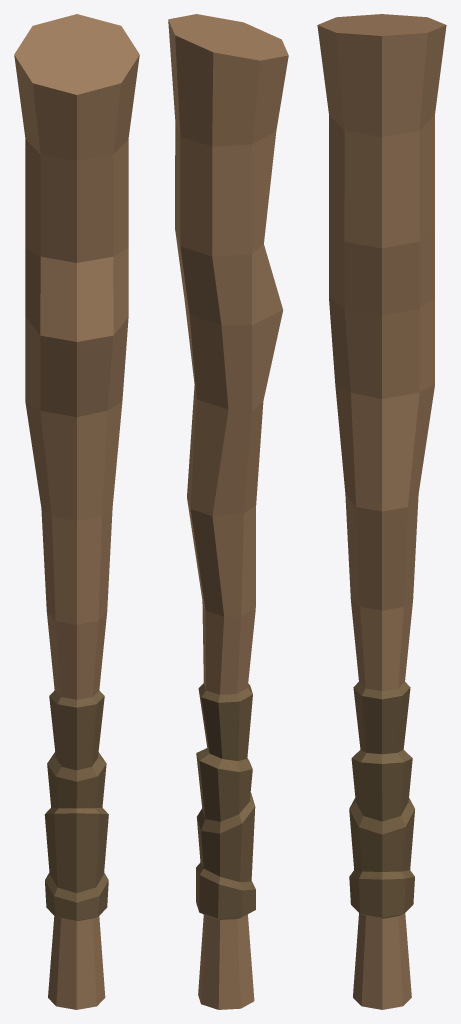
File: SM_pwe_medieval_club_06.fbx
3 renders of one model, left to right at view 1: azimuth 90°, elevation 25°; view 2: azimuth 210°, elevation 25°; view 3: azimuth 270°, elevation 25°, orthographic. The views are drawn at different scales.
Parts seen in each view (by area): view 1: SM_pwe_medieval_club_06; view 2: SM_pwe_medieval_club_06; view 3: SM_pwe_medieval_club_06.
Part boxes in pixels (x1=…): SM_pwe_medieval_club_06: x1=14, y1=14, x2=139, y2=1009; SM_pwe_medieval_club_06: x1=168, y1=14, x2=288, y2=1009; SM_pwe_medieval_club_06: x1=317, y1=14, x2=446, y2=1009.
Size of the model in its own units: 10.08 by 87.96 by 10.44.
